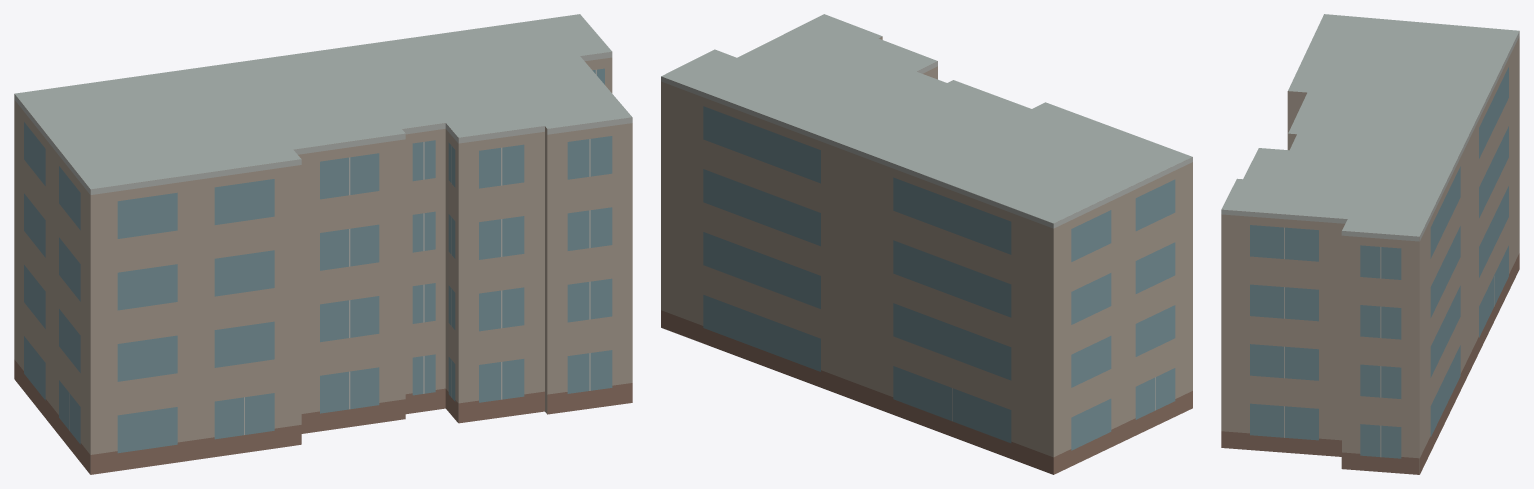
Rendered from survey-upis-32924390.glb.
3 views of the same model, side by side, from view 1: azimuth 30°, elevation 25°; view 2: azimuth 150°, elevation 25°; view 3: azimuth 270°, elevation 25° (orthographic). The views are drawn at different scales.
Parts seen in each view (by area): view 1: survey-upis-32924390.tmp; view 2: survey-upis-32924390.tmp; view 3: survey-upis-32924390.tmp.
Boxes of the visible parts, x1,y1,x2,y2 form: survey-upis-32924390.tmp: (14,14,632,474); survey-upis-32924390.tmp: (661,14,1192,474); survey-upis-32924390.tmp: (1221,14,1519,474).
Size of the model in its own units: 24.06 by 12 by 13.63.
